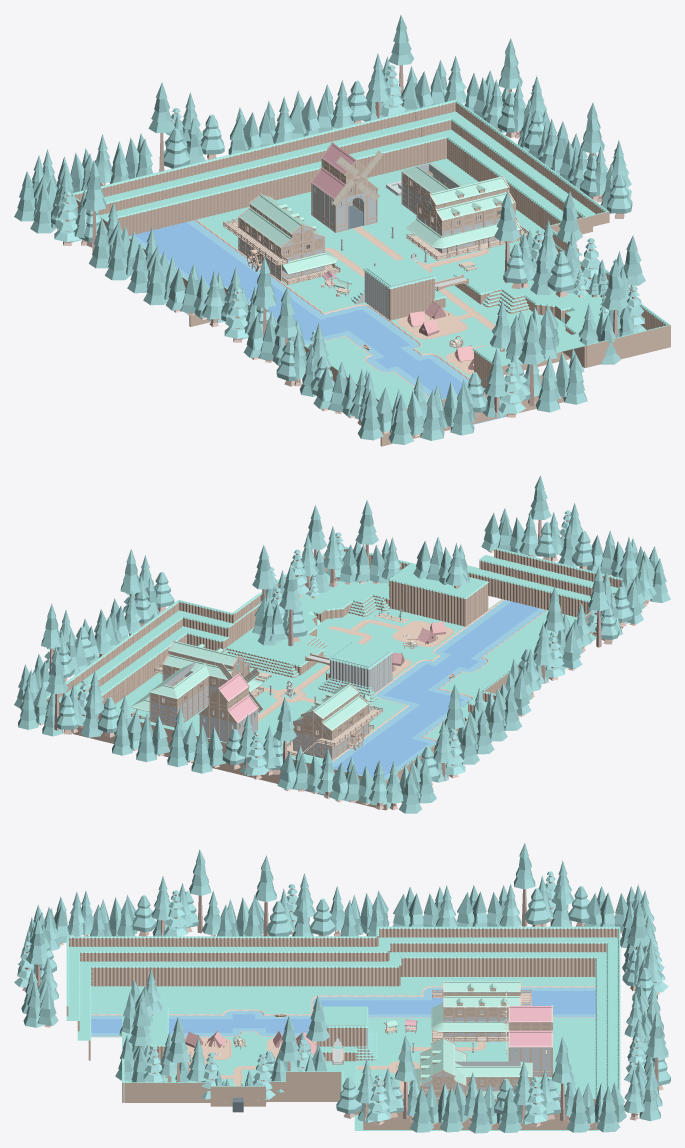
Rendered from map2.glb.
The picture shows the model from 3 angles, top to bottom: view 1: azimuth 30°, elevation 25°; view 2: azimuth 150°, elevation 25°; view 3: azimuth 270°, elevation 25°; orthographic projection. The views are drawn at different scales.
Visible parts, largest first — view 1: cliff_blockQuarter_stone, tree_pineTallD__11_, tree_pineTallD__7_, tree_pineTallD, windmill, tree_pineTallD__3_, tree_pineTallD__8_, tree_pineTallD__6_, tree_pineRoundB__13_, tree_pineRoundB__10_, tree_pineRoundB__11_, tree_pineSmallA (+29 smaller); view 2: cliff_blockQuarter_stone, tree_pineTallD, tree_pineTallD__10_, tree_pineTallD__6_, tree_pineRoundB__9_, tree_pineTallD__7_, tree_pineTallD__11_, tree_pineTallD__3_, tree_pineTallD__1_, tree_pineDefaultA, tree_pineTallD__5_, tree_pineDefaultA__7_ (+30 smaller); view 3: cliff_blockQuarter_stone, tree_pineTallD__5_, tree_pineTallD__10_, tree_pineTallD__4_, tree_pineTallD__8_, tree_pineTallD__9_, tree_pineRoundB__7_, tree_pineRoundB__6_, tree_pineTallD__6_, tree_pineTallD__11_, tree_pineRoundB__12_, tree_pineTallD__2_ (+37 smaller).
Boxes of the visible parts, x1,y1,x2,y2 form: cliff_blockQuarter_stone: (366,258,432,286); tree_pineTallD__11_: (518,314,544,406); tree_pineTallD__7_: (148,82,174,171); tree_pineTallD: (494,191,520,283); windmill: (332,151,383,207); tree_pineTallD__3_: (602,259,628,337); tree_pineTallD__8_: (82,160,106,252); tree_pineTallD__6_: (388,15,414,105); tree_pineRoundB__13_: (498,362,526,417); tree_pineRoundB__10_: (54,190,80,245); tree_pineRoundB__11_: (224,287,248,342); tree_pineSmallA: (547,251,575,297); cliff_blockQuarter_stone: (332,642,390,667); tree_pineTallD: (279,565,302,646); tree_pineTallD__10_: (588,566,609,647); tree_pineTallD__6_: (46,649,68,730); tree_pineRoundB__9_: (244,730,269,779); tree_pineTallD__7_: (273,697,296,763); tree_pineTallD__11_: (528,475,551,556); tree_pineTallD__3_: (355,500,378,581); tree_pineTallD__1_: (252,544,275,600); tree_pineDefaultA: (323,526,343,587); tree_pineTallD__5_: (41,603,62,670); tree_pineDefaultA__7_: (433,720,454,781); cliff_blockQuarter_stone: (322,1006,365,1025); tree_pineTallD__5_: (551,1037,573,1121); tree_pineTallD__10_: (189,849,211,933); tree_pineTallD__4_: (394,1035,416,1119); tree_pineTallD__8_: (514,843,535,926); tree_pineTallD__9_: (255,855,276,936); tree_pineRoundB__7_: (523,1076,547,1127); tree_pineRoundB__6_: (366,1074,390,1125); tree_pineTallD__6_: (645,1011,668,1093); tree_pineTallD__11_: (26,918,49,987); tree_pineRoundB__12_: (164,890,188,936); tree_pineTallD__2_: (166,1017,190,1082).
Bounding box in the file's own units: 231 × 57.34 × 297.
